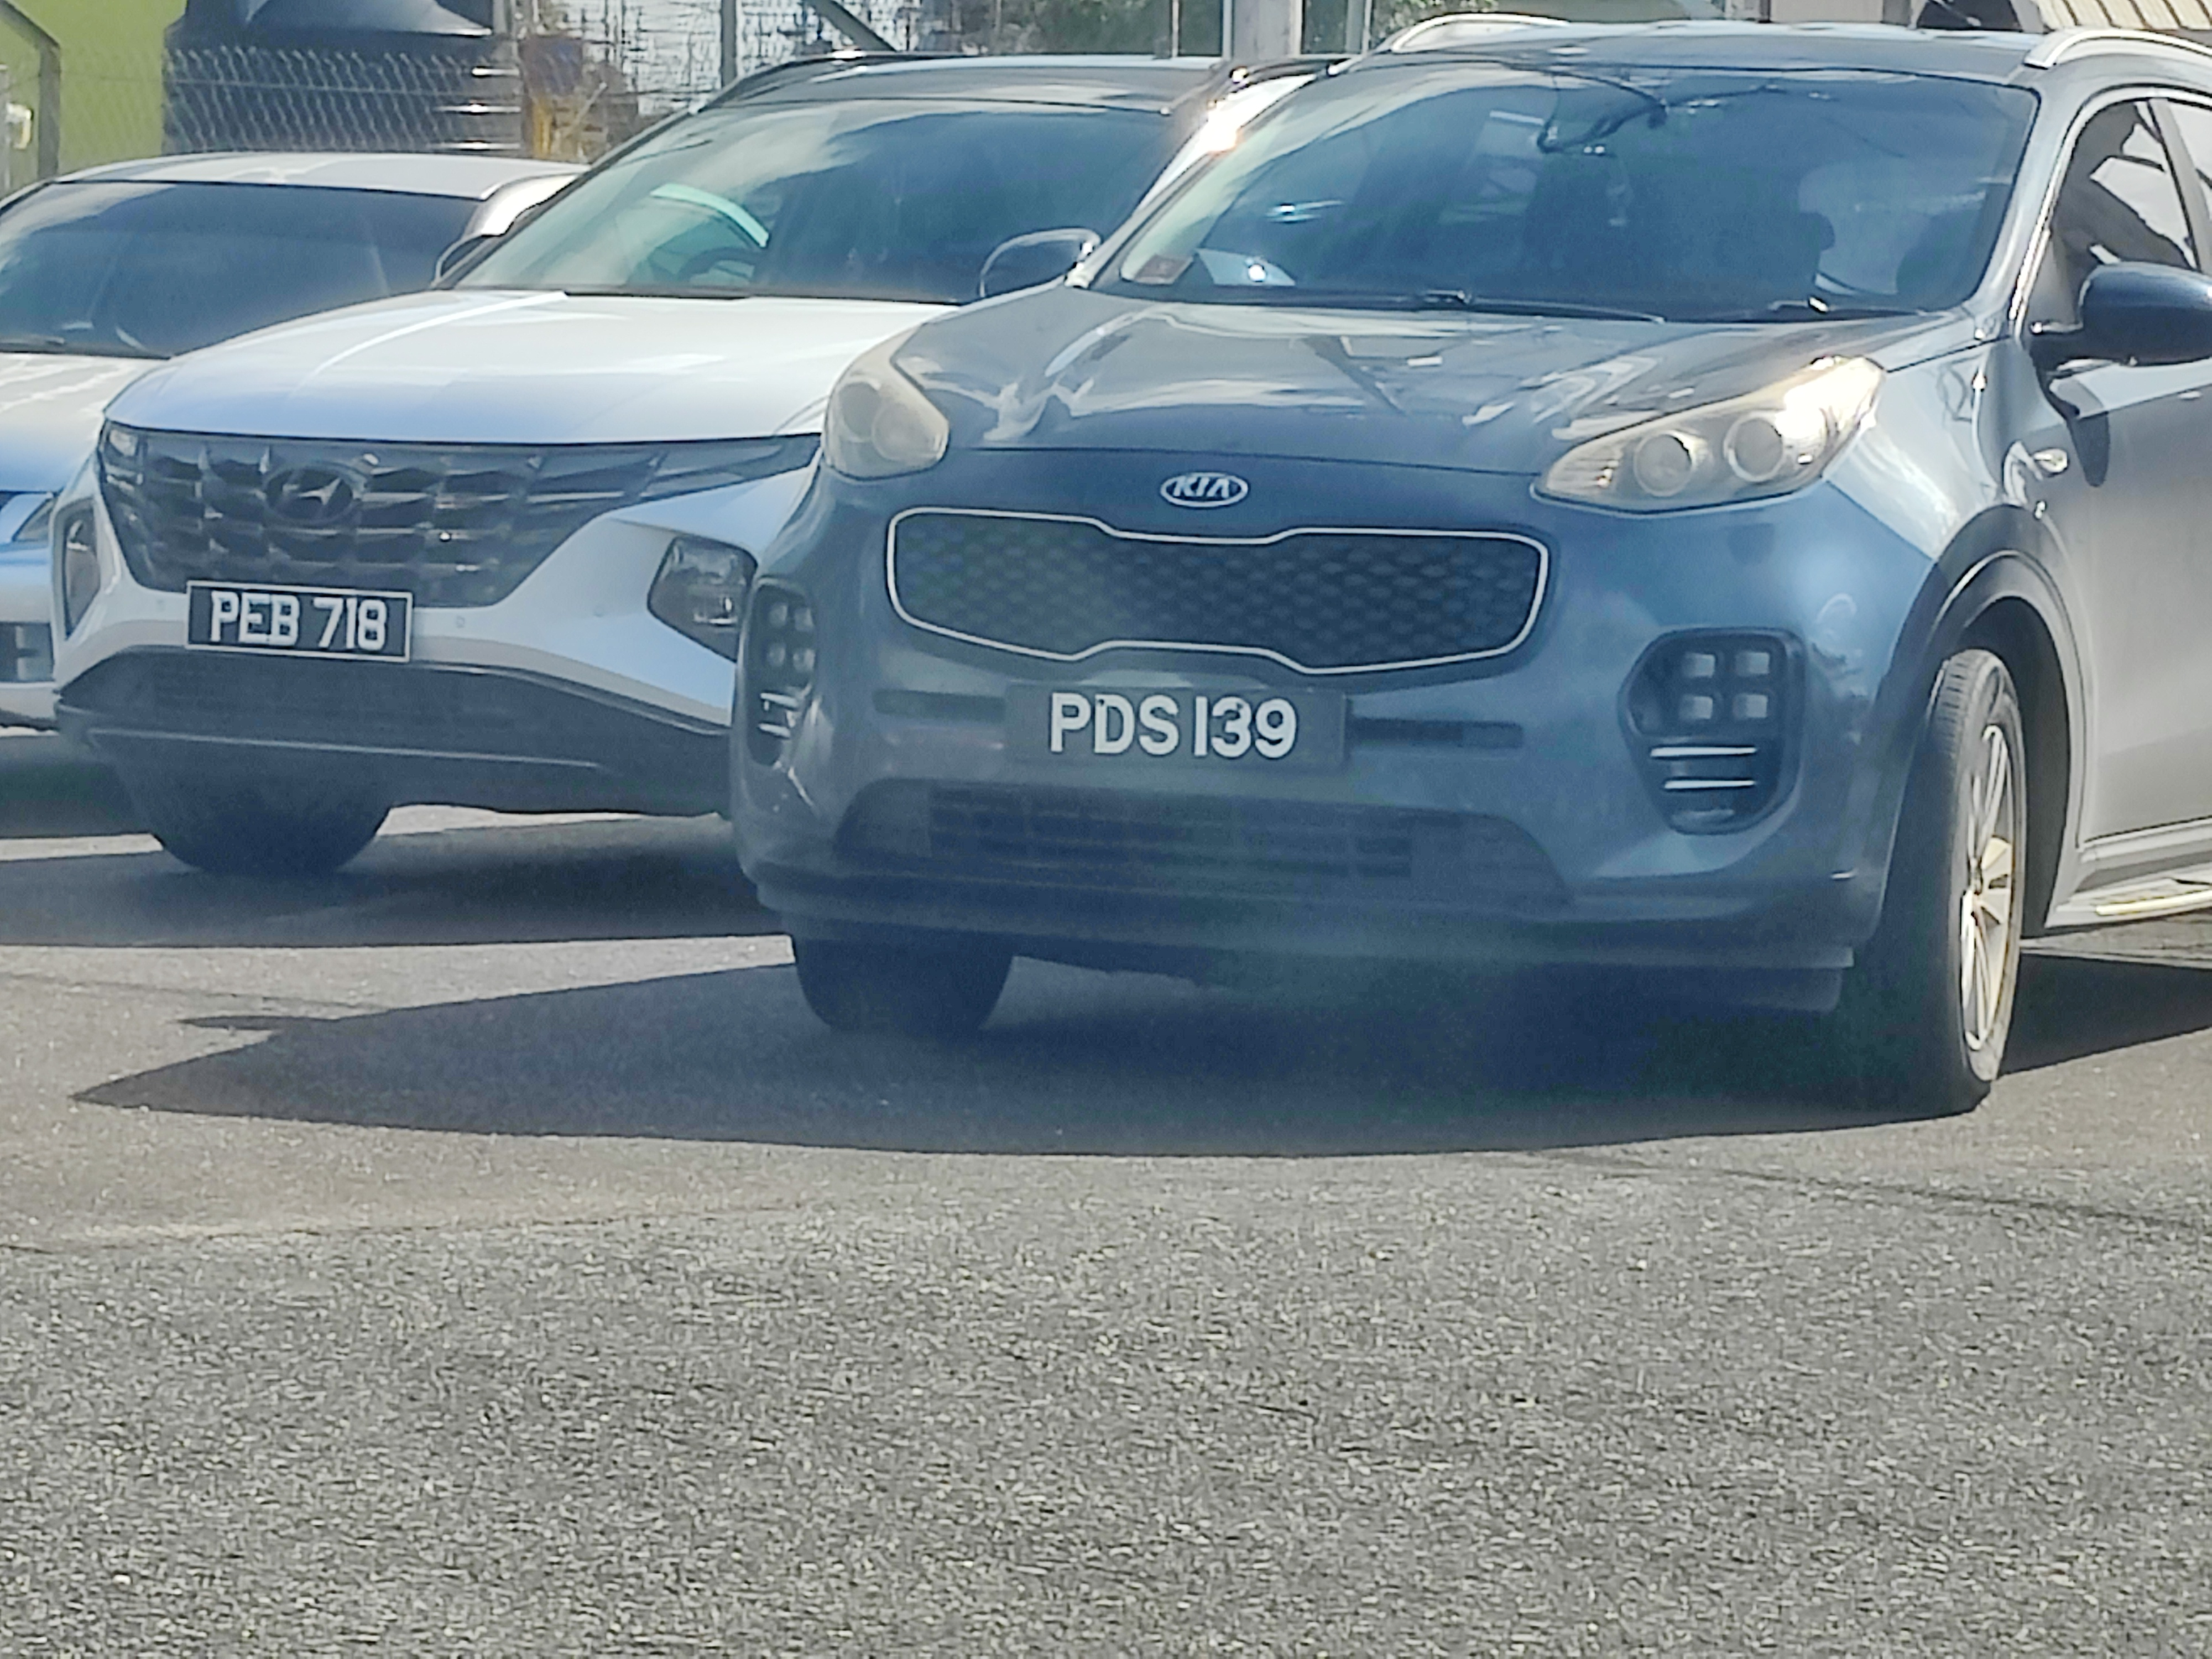License-Plate: (1012, 680, 1343, 759), (191, 582, 407, 646)
